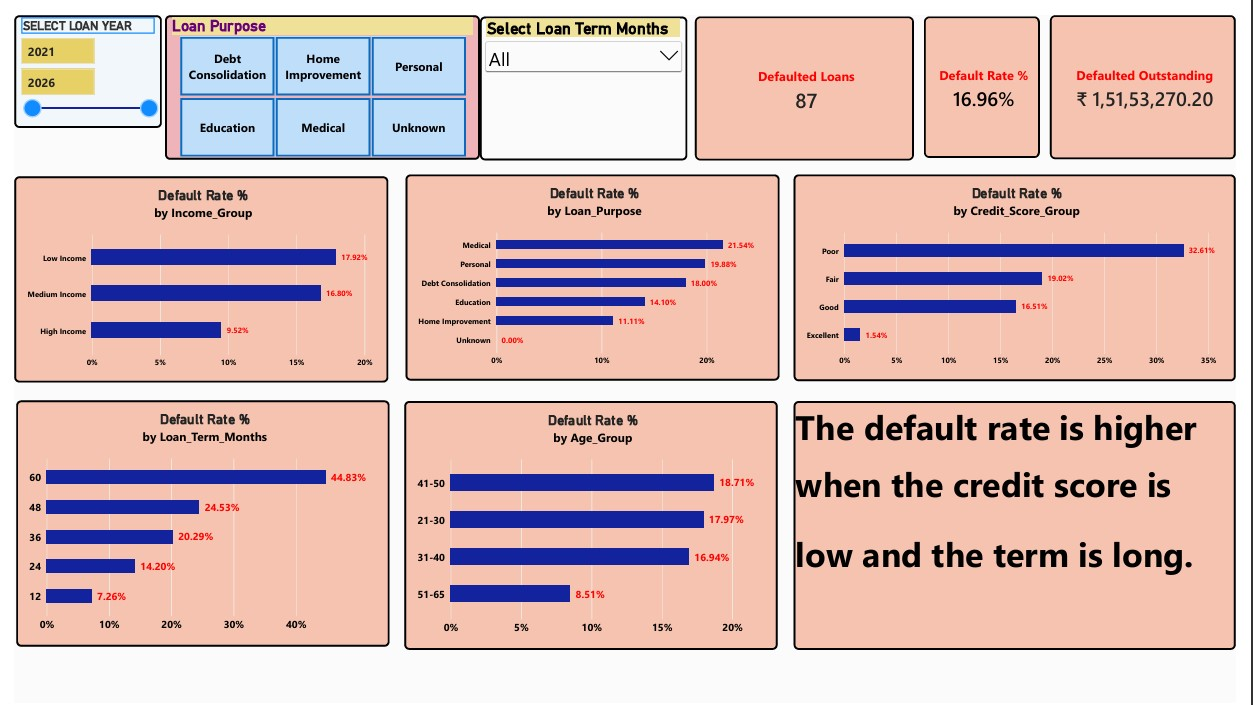

Layout of this report page (visuals, bound fields, positions):
{"tool":"powerbi","page":{"name":"Default Risk Analysis","canvas":[1920,1080],"ordinal":1},"visuals":[{"type":"slicer","fields":{"Values":["LDR.Loan_Year"]},"box":[0,0,232,177],"z":0},{"type":"slicer","fields":{"Values":["LDR.Loan_Purpose"]},"box":[236.7,0,495,226.7],"z":1000},{"type":"slicer","fields":{"Values":["LDR.Loan_Term_Months"]},"box":[731.7,1.7,326.7,226.7],"z":2000},{"type":"cardVisual","fields":{"Data":["LDR.Defaulted Loans"]},"box":[1070,2,344,226],"z":4000},{"type":"cardVisual","fields":{"Data":["LDR.Default Rate %"]},"box":[1430,2,182,222],"z":5000},{"type":"cardVisual","fields":{"Data":["LDR.Defaulted Outstanding"]},"box":[1628,0,292,226],"z":6000},{"type":"barChart","fields":{"Category":["LDR.Income_Group"],"Y":["LDR.Default Rate %"]},"box":[0,252.5,587.8,324.4],"z":7000},{"type":"barChart","fields":{"Category":["LDR.Loan_Purpose"],"Y":["LDR.Default Rate %"]},"box":[615,250,587.8,324.4],"z":8000},{"type":"barChart","fields":{"Category":["LDR.Credit_Score_Group"],"Y":["LDR.Default Rate %"]},"box":[1225,250,695,325],"z":9000},{"type":"barChart","fields":{"Category":["LDR.Loan_Term_Months"],"Y":["LDR.Default Rate %"]},"box":[2.5,605,587.1,387.1],"z":10000},{"type":"barChart","fields":{"Category":["LDR.Age_Group"],"Y":["LDR.Default Rate %"]},"box":[612.9,605.7,587.1,391.4],"z":11000},{"type":"textbox","box":[1225,606,695,391],"z":12000}]}

Visuals, with their boxes in screenshot pixels (x1, y1, x2, y2), scaled from the page's 1920x1080 canvas onto the 1253x705 screenshot:
slicer - LDR.Loan_Year: [left=0, top=0, right=151, bottom=116]
slicer - LDR.Loan_Purpose: [left=154, top=0, right=478, bottom=148]
slicer - LDR.Loan_Term_Months: [left=478, top=1, right=691, bottom=149]
cardVisual - LDR.Defaulted Loans: [left=698, top=1, right=923, bottom=149]
cardVisual - LDR.Default Rate %: [left=933, top=1, right=1052, bottom=146]
cardVisual - LDR.Defaulted Outstanding: [left=1062, top=0, right=1252, bottom=148]
barChart - LDR.Income_Group x LDR.Default Rate %: [left=0, top=165, right=384, bottom=377]
barChart - LDR.Loan_Purpose x LDR.Default Rate %: [left=401, top=163, right=785, bottom=375]
barChart - LDR.Credit_Score_Group x LDR.Default Rate %: [left=799, top=163, right=1252, bottom=375]
barChart - LDR.Loan_Term_Months x LDR.Default Rate %: [left=2, top=395, right=385, bottom=648]
barChart - LDR.Age_Group x LDR.Default Rate %: [left=400, top=395, right=783, bottom=651]
textbox: [left=799, top=396, right=1252, bottom=651]
